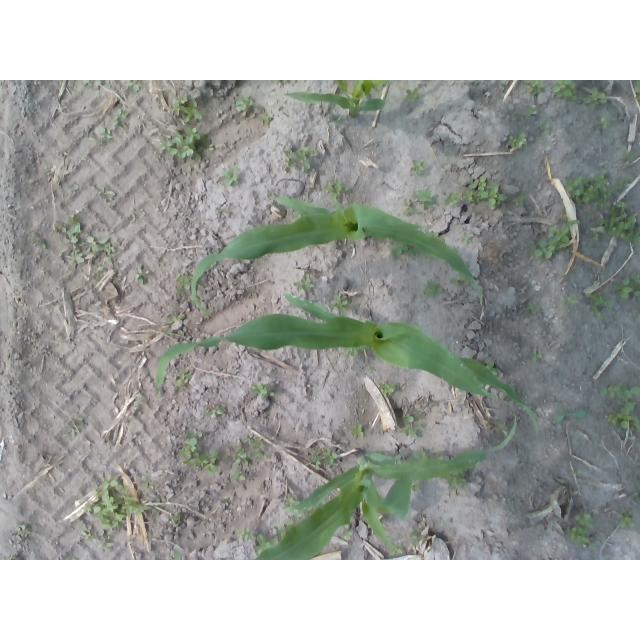Maize: (153, 293, 542, 434), (248, 416, 516, 561), (187, 192, 484, 316), (285, 80, 391, 118)
Weeds: (83, 475, 134, 530), (530, 213, 580, 259), (592, 202, 640, 245), (563, 169, 614, 207), (178, 429, 219, 473), (160, 126, 208, 162), (462, 176, 507, 211), (564, 512, 598, 548), (607, 400, 640, 431), (171, 94, 203, 123), (55, 215, 84, 245), (584, 290, 612, 319), (282, 147, 317, 170), (599, 382, 640, 401), (611, 273, 640, 299), (78, 529, 114, 548), (80, 235, 116, 253), (551, 80, 580, 102), (246, 437, 269, 463), (254, 533, 279, 556), (400, 413, 422, 439), (441, 469, 468, 490), (554, 407, 587, 424), (390, 241, 420, 259), (583, 86, 607, 108), (325, 181, 351, 201), (411, 189, 433, 211), (231, 443, 250, 466), (421, 280, 444, 299), (219, 166, 240, 186), (329, 295, 351, 314), (285, 495, 304, 517), (617, 508, 636, 529), (292, 273, 314, 291), (202, 404, 226, 420), (67, 416, 86, 436), (163, 313, 183, 332), (250, 383, 275, 398), (127, 502, 158, 514), (441, 192, 464, 208), (132, 267, 151, 286), (97, 126, 114, 147), (523, 81, 546, 96), (481, 359, 499, 378), (403, 85, 422, 103), (409, 527, 428, 545), (507, 133, 527, 150), (112, 107, 130, 125), (493, 418, 512, 435), (235, 94, 254, 111), (176, 274, 193, 293), (403, 198, 421, 215), (410, 159, 427, 177), (95, 255, 112, 273), (66, 247, 83, 265), (322, 447, 338, 466), (229, 468, 247, 484), (124, 80, 144, 94), (139, 474, 156, 490), (175, 370, 192, 386), (348, 423, 365, 438), (235, 526, 253, 540), (273, 519, 292, 532), (14, 522, 31, 536), (561, 296, 579, 309), (79, 80, 105, 89), (616, 174, 632, 188), (622, 147, 638, 161), (100, 185, 116, 199), (524, 302, 541, 315), (380, 382, 397, 395), (629, 480, 640, 499), (312, 449, 323, 468), (449, 276, 465, 289), (513, 193, 527, 207), (344, 346, 360, 358), (411, 450, 430, 460), (33, 237, 47, 250), (632, 80, 640, 101), (599, 116, 611, 129), (459, 233, 473, 244), (258, 113, 272, 123), (532, 350, 544, 361), (541, 122, 552, 134), (524, 105, 536, 116), (340, 529, 353, 539), (569, 469, 587, 476), (390, 544, 402, 554), (411, 480, 420, 493), (627, 308, 639, 317), (171, 513, 183, 521), (173, 552, 183, 560), (65, 556, 78, 561), (368, 367, 377, 373), (267, 193, 274, 199), (275, 80, 282, 85)
